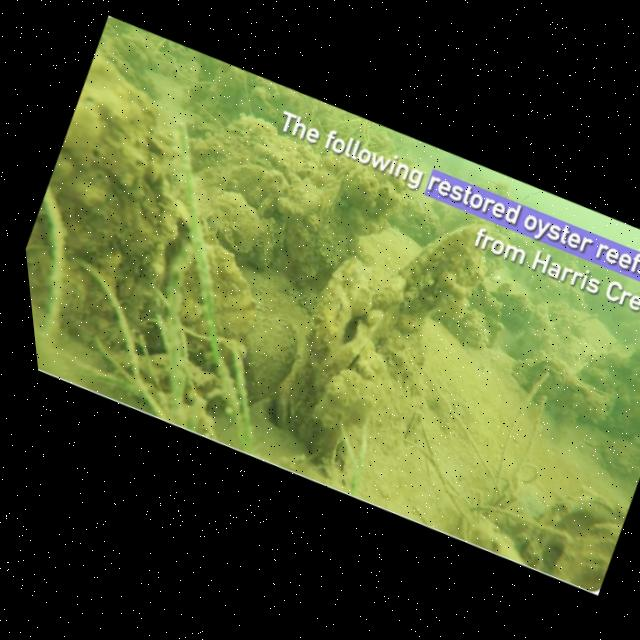Oyster-Closed: (316, 161, 348, 232), (248, 218, 284, 271)
Oyster-Indeterminate: (26, 51, 177, 367), (396, 226, 484, 334), (176, 247, 257, 346), (105, 351, 223, 407), (586, 342, 640, 440), (129, 323, 218, 378), (243, 317, 297, 404), (313, 371, 384, 430), (207, 191, 263, 256), (554, 374, 609, 424), (243, 140, 301, 183), (244, 73, 286, 123), (281, 214, 318, 264), (224, 164, 265, 204), (99, 42, 137, 82), (114, 34, 156, 70), (219, 338, 246, 373)
Oyster-Open: (277, 259, 405, 457), (537, 497, 628, 592), (314, 336, 371, 397), (519, 359, 567, 409), (491, 283, 532, 318), (151, 45, 186, 80), (186, 118, 215, 140), (257, 193, 279, 220)
